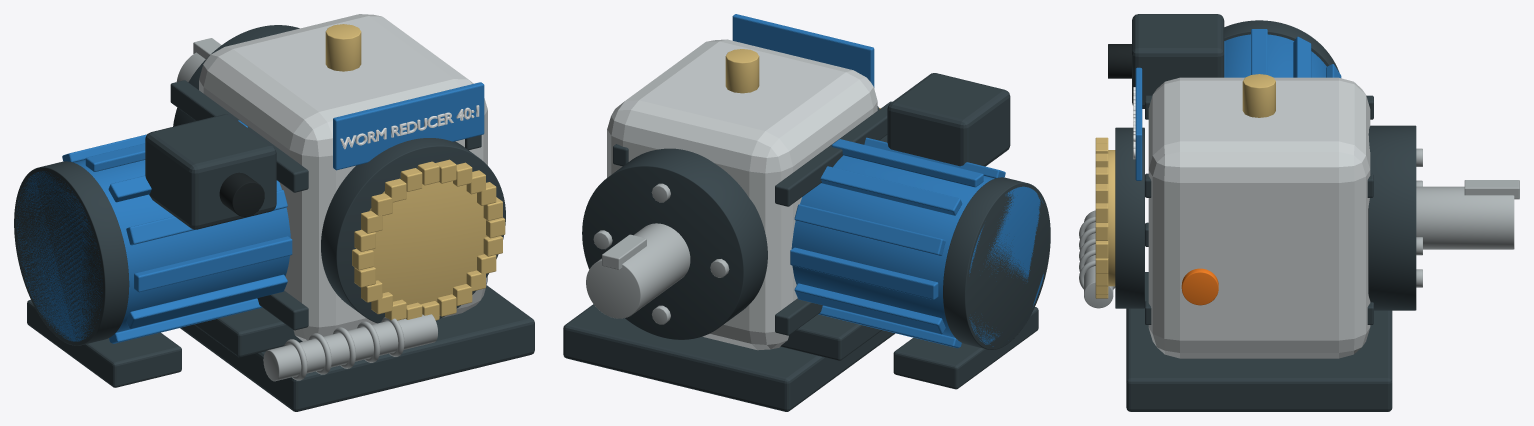
File: pulse_output_meter.glb
The picture shows the model from 3 angles, left to right: view 1: azimuth 30°, elevation 25°; view 2: azimuth 150°, elevation 25°; view 3: azimuth 270°, elevation 25°; orthographic projection. The views are drawn at different scales.
Parts seen in each view (by area): view 1: WORM_GEARBOX, MOTOR_frame, MOTOR_endbell_-0.735, GEARBOX_FOOT, WORM_WHEEL, MOTOR_terminal_box, INSPECTION_RING, REDUCER_NAMEPLATE, MOTOR_foot_-0.18, WORM_SHAFT, MOTOR_fin_180, MOTOR_foot_0.18 (+12 smaller); view 2: WORM_GEARBOX, OUTPUT_FLANGE, MOTOR_frame, GEARBOX_FOOT, MOTOR_endbell_-0.735, MOTOR_terminal_box, KIN_OUTPUT_HUB, MOTOR_foot_-0.18, REDUCER_NAMEPLATE, MOTOR_fin_0, GEARBOX_RIB_-1_0.69, MOTOR_foot_0.18 (+9 smaller); view 3: WORM_GEARBOX, GEARBOX_FOOT, OUTPUT_FLANGE, MOTOR_terminal_box, KIN_OUTPUT_HUB, INSPECTION_RING, MOTOR_frame, MOTOR_endbell_-0.735, OIL_FILL, OIL_SIGHT, WORM_WHEEL, WORM_SHAFT (+5 smaller).
Part boxes in pixels (box(x1,y1,x2,y2)): WORM_GEARBOX: box(199, 14, 487, 341); MOTOR_frame: box(16, 159, 290, 341); MOTOR_endbell_-0.735: box(14, 161, 129, 345); GEARBOX_FOOT: box(180, 285, 534, 411); WORM_WHEEL: box(361, 181, 487, 305); MOTOR_terminal_box: box(145, 114, 276, 229); INSPECTION_RING: box(321, 138, 505, 323); REDUCER_NAMEPLATE: box(333, 82, 484, 170); MOTOR_foot_-0.18: box(27, 299, 181, 387); WORM_SHAFT: box(263, 314, 437, 381); MOTOR_fin_180: box(134, 236, 292, 292); MOTOR_foot_0.18: box(194, 307, 302, 357); WORM_GEARBOX: box(607, 39, 877, 350); OUTPUT_FLANGE: box(582, 148, 767, 339); MOTOR_frame: box(791, 155, 1043, 346); GEARBOX_FOOT: box(563, 304, 895, 411); MOTOR_endbell_-0.735: box(943, 177, 1050, 349); MOTOR_terminal_box: box(887, 73, 1010, 166); KIN_OUTPUT_HUB: box(586, 223, 690, 318); MOTOR_foot_-0.18: box(893, 307, 1038, 389); REDUCER_NAMEPLATE: box(732, 14, 874, 87); MOTOR_fin_0: box(790, 247, 938, 299); GEARBOX_RIB_-1_0.69: box(775, 101, 892, 206); MOTOR_foot_0.18: box(780, 314, 881, 360); WORM_GEARBOX: box(1148, 77, 1370, 358); GEARBOX_FOOT: box(1126, 272, 1392, 411); OUTPUT_FLANGE: box(1368, 125, 1416, 310); MOTOR_terminal_box: box(1132, 14, 1224, 108); KIN_OUTPUT_HUB: box(1416, 186, 1514, 249); INSPECTION_RING: box(1115, 127, 1144, 308); MOTOR_frame: box(1224, 34, 1326, 77); MOTOR_endbell_-0.735: box(1224, 20, 1339, 72); OIL_FILL: box(1242, 74, 1275, 117); OIL_SIGHT: box(1181, 268, 1218, 305); WORM_WHEEL: box(1108, 150, 1115, 286); WORM_SHAFT: box(1084, 210, 1113, 308).
Bounding box in the file's own units: 1.17 × 0.83 × 1.19.
